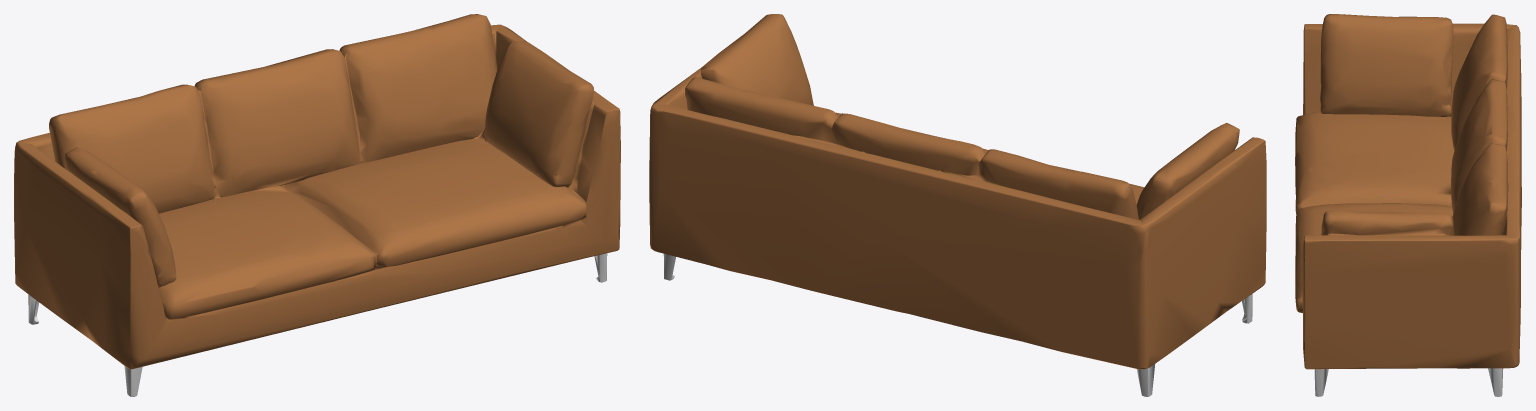
Rendered from 01 - STOCKHOLM Three-seat sofa - Seglora natural.glb.
The picture shows the model from 3 angles, left to right: view 1: azimuth 30°, elevation 25°; view 2: azimuth 150°, elevation 25°; view 3: azimuth 270°, elevation 25°; orthographic projection. The views are drawn at different scales.
Parts seen in each view (by area): view 1: ProcessedMeshNode; view 2: ProcessedMeshNode; view 3: ProcessedMeshNode.
Part boxes in pixels (x1,y1,x2,y2): ProcessedMeshNode: [14, 14, 620, 396]; ProcessedMeshNode: [649, 14, 1266, 396]; ProcessedMeshNode: [1295, 14, 1521, 396].
Size of the model in its own units: 2.14 by 0.8403 by 0.9379.
Materials: 1 (1 with a texture image).
